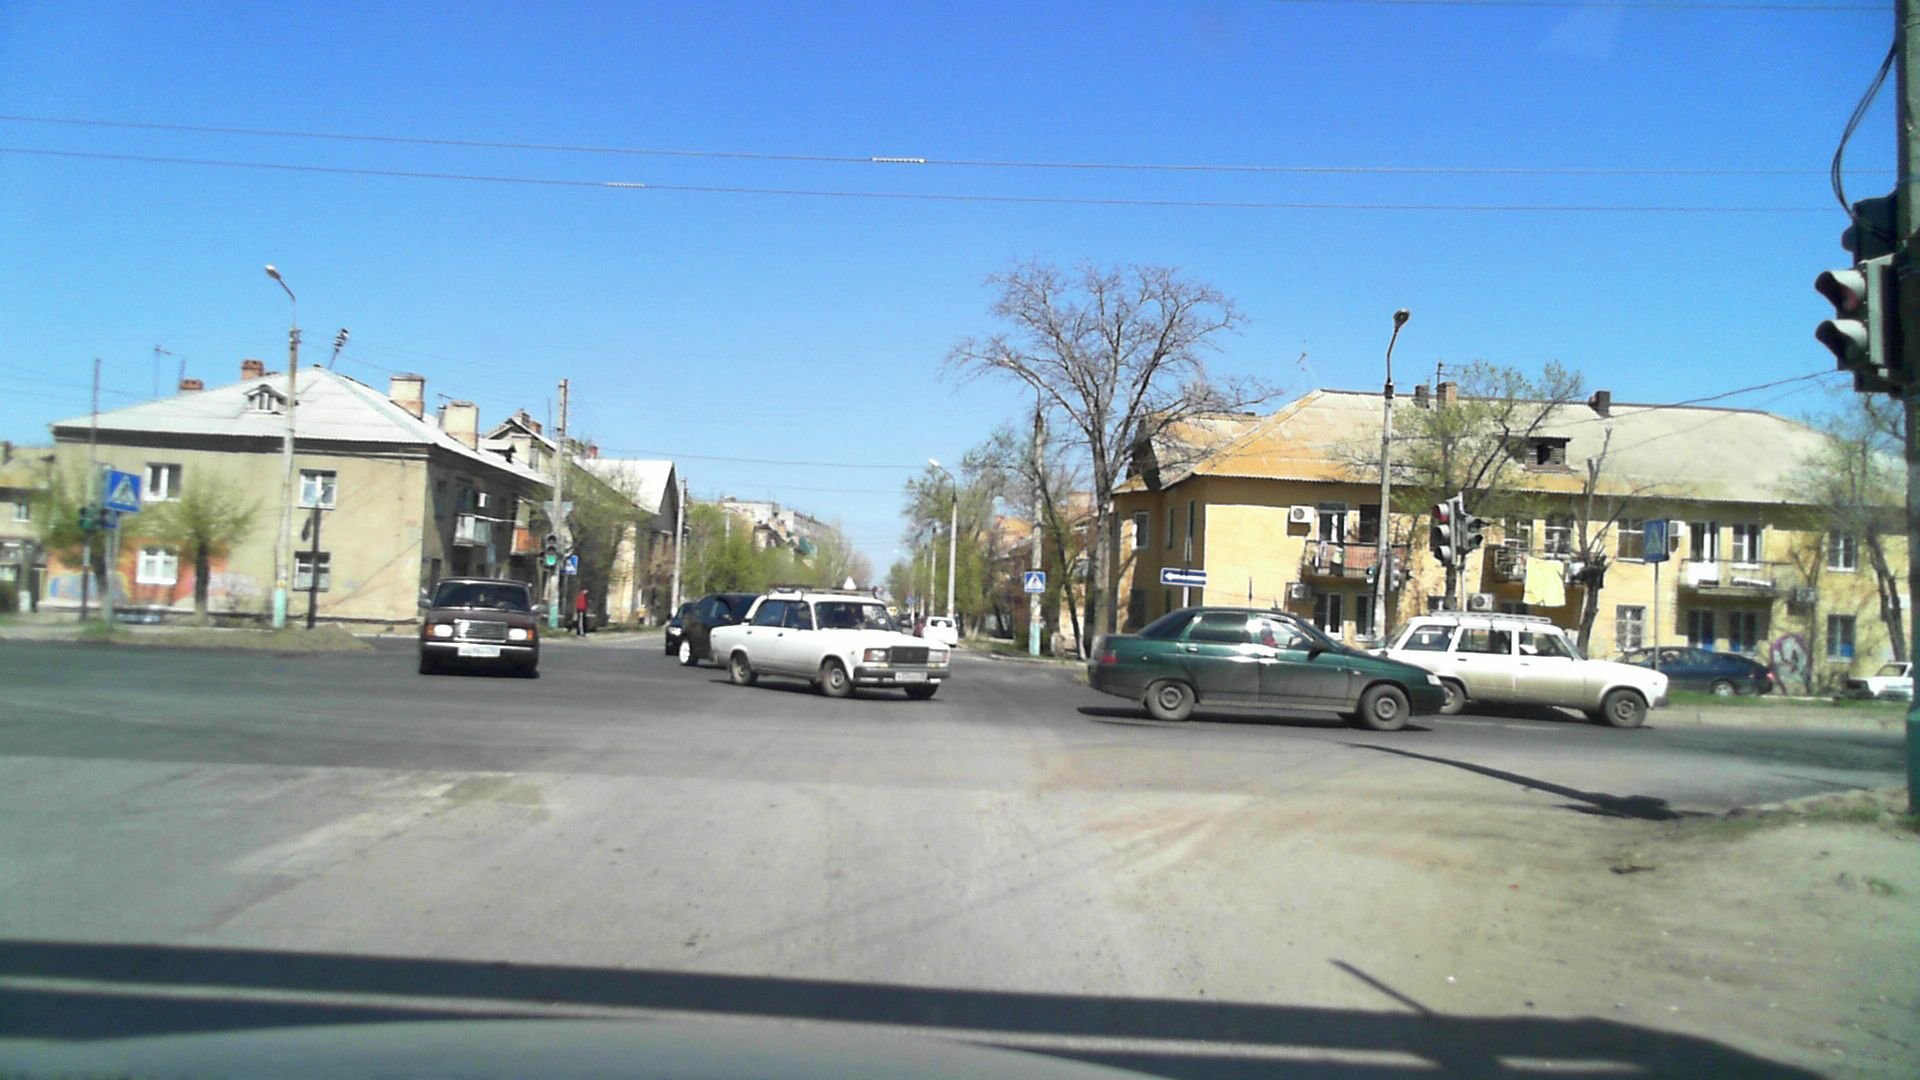One-Way Traffic: (1162, 571, 1207, 583)
